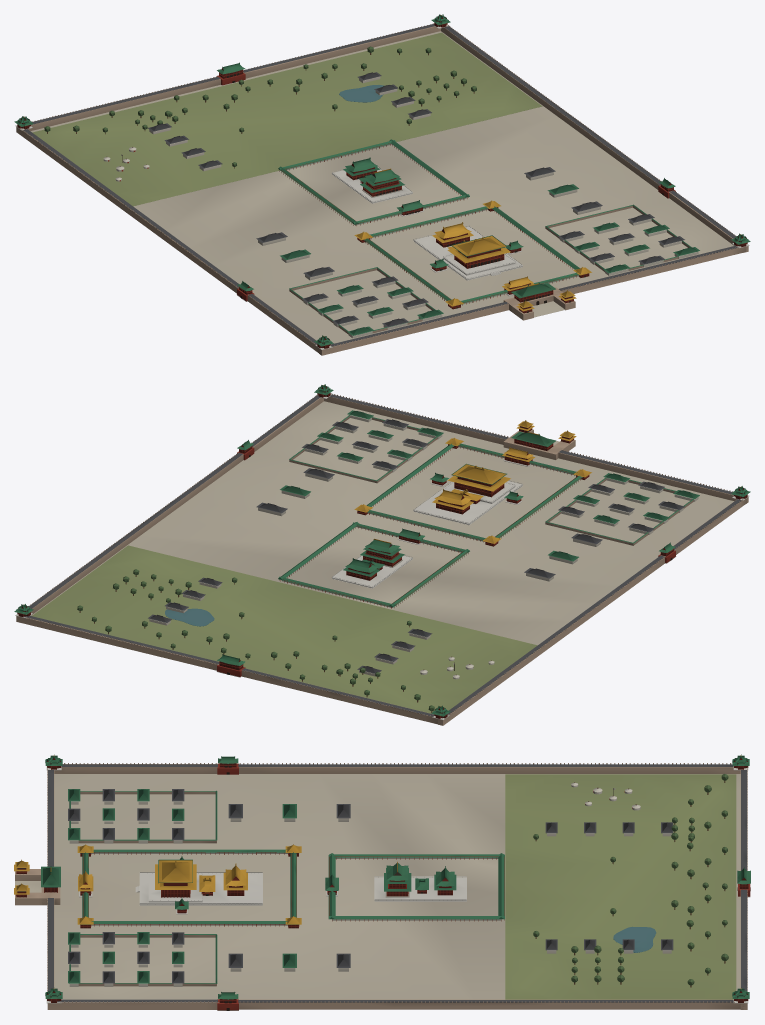
The model's file is yuan-palace.glb.
3 renders of one model, top to bottom at view 1: azimuth 30°, elevation 25°; view 2: azimuth 150°, elevation 25°; view 3: azimuth 270°, elevation 25°, orthographic. The views are drawn at different scales.
Visible parts, largest first — view 1: p0_walls, p1_halls, p2_trees; view 2: p0_walls, p1_halls, p2_trees; view 3: p0_walls, p1_halls, p2_trees.
Part boxes in pixels (x1,y1,x2,y2): p0_walls: (16,23,748,355); p1_halls: (103,69,699,338); p2_trees: (14,14,750,349); p0_walls: (16,393,748,725); p1_halls: (148,410,699,679); p2_trees: (14,384,750,720); p0_walls: (15,763,750,1010); p1_halls: (16,763,748,1003); p2_trees: (14,754,750,1003).
Size of the model in its own units: 739 by 40.19 by 957.
